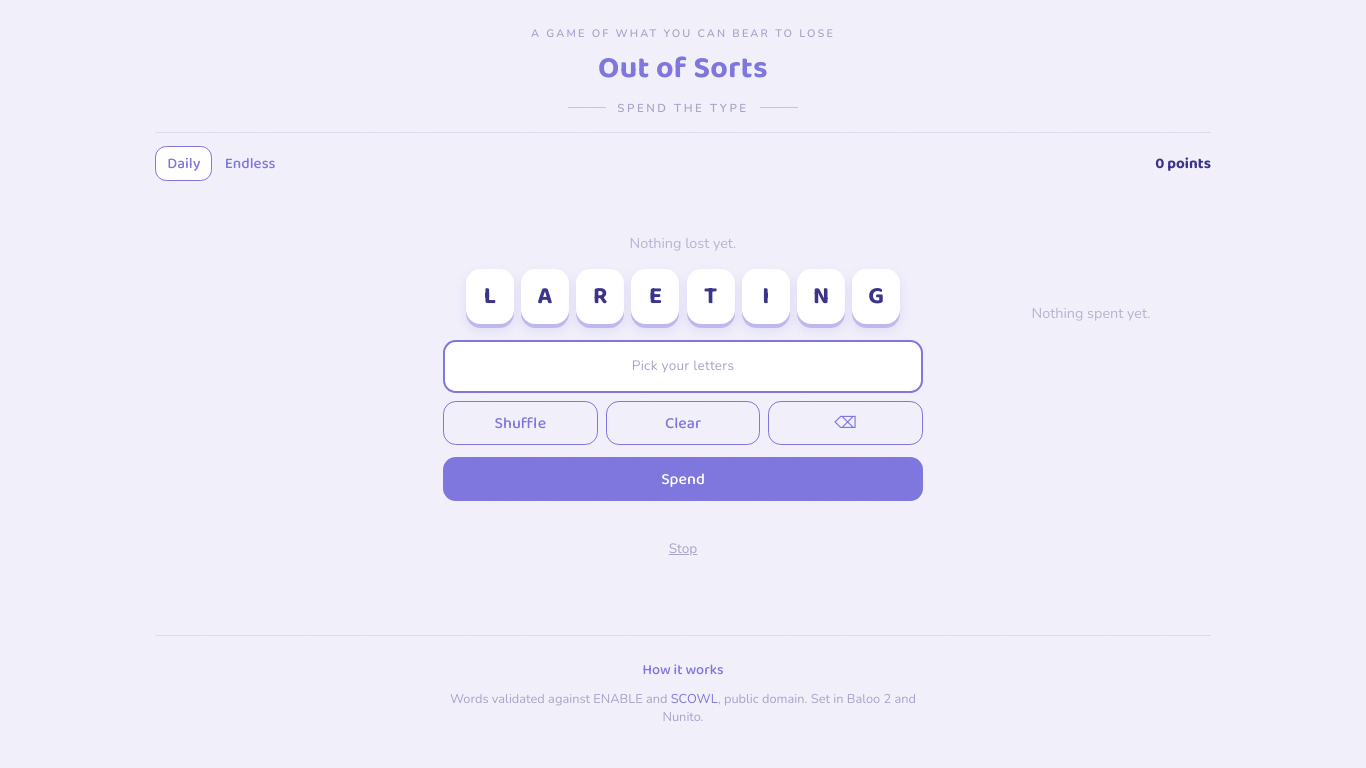
Test: the board does not say DAY N › but Endless keeps its session counter
Check: the element that starts with "Nothing lost yet." is shown, box x1=443 y1=233 x2=1150 y2=571
Click the button "Endless".
click(250, 164)  # box x1=212 y1=146 x2=288 y2=181
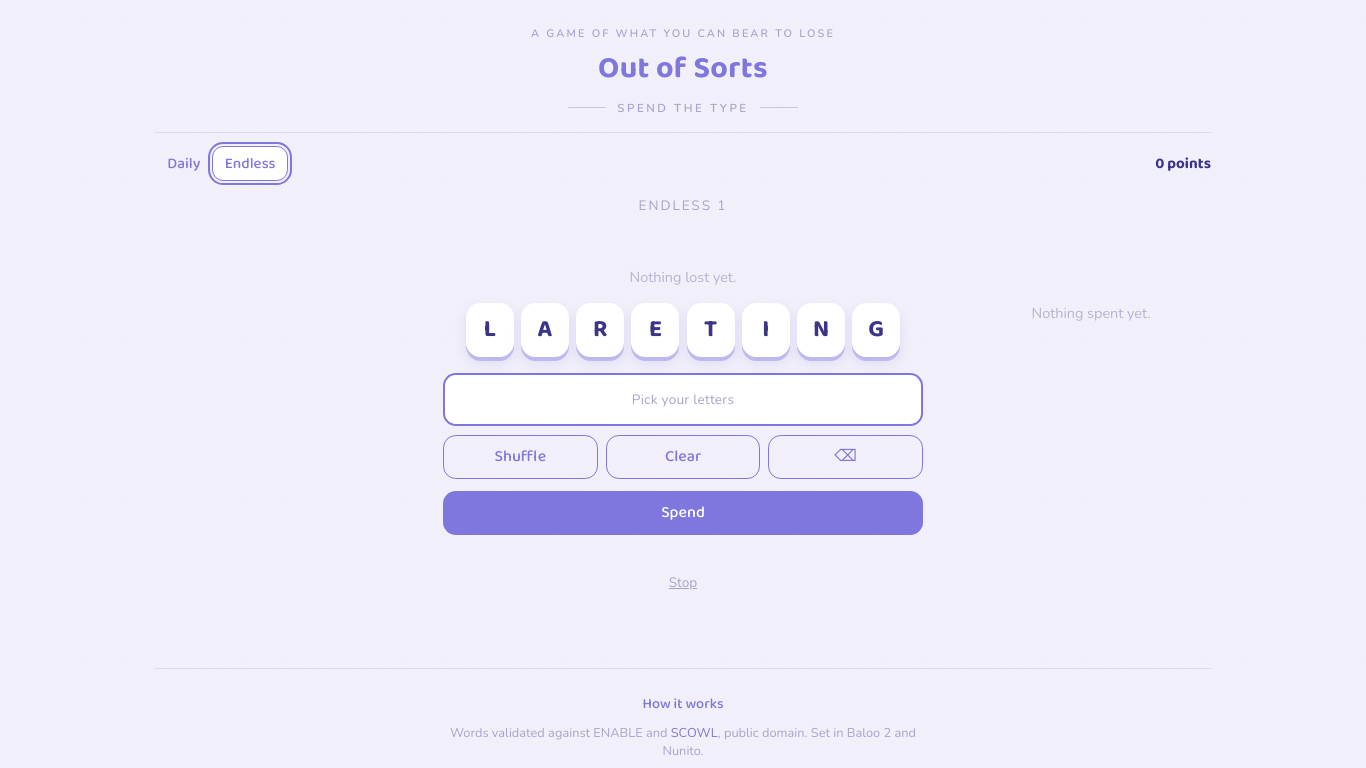
Check: the text with class "day-label" reads "Endless 1", box x1=639 y1=196 x2=727 y2=215
